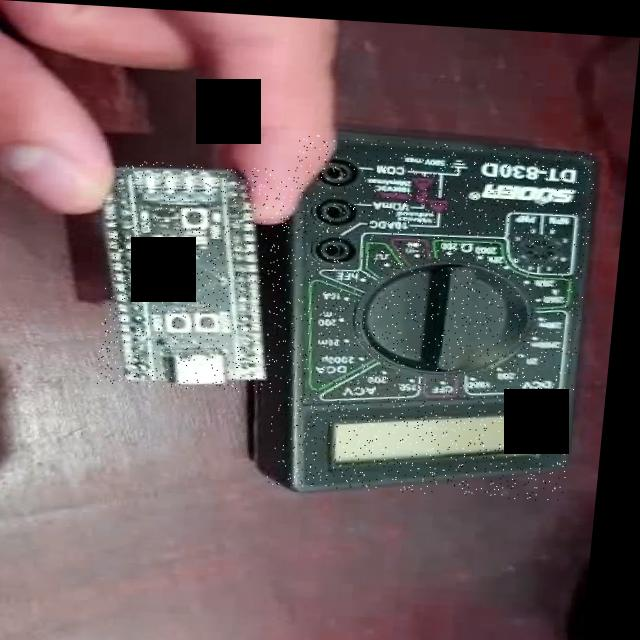multimeter: (275, 130, 599, 494)
stm32: (104, 158, 305, 391)
